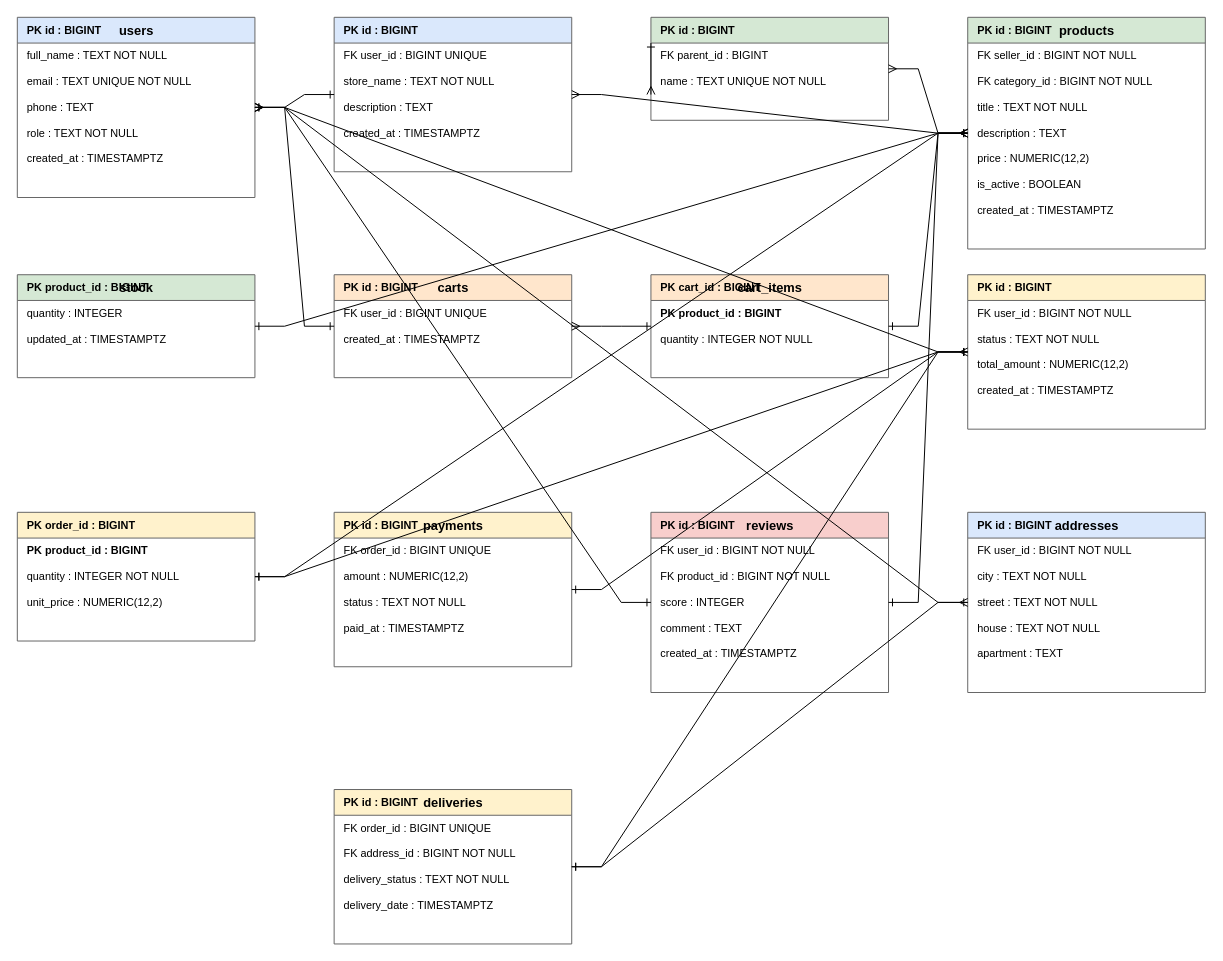
This 1223x961 diagram has some shape labels left out. Each missing label, with the box of its shape:
categories: (650, 16, 889, 120)
order_items: (16, 511, 255, 641)
orders: (967, 274, 1205, 429)
sellers: (333, 16, 572, 172)
